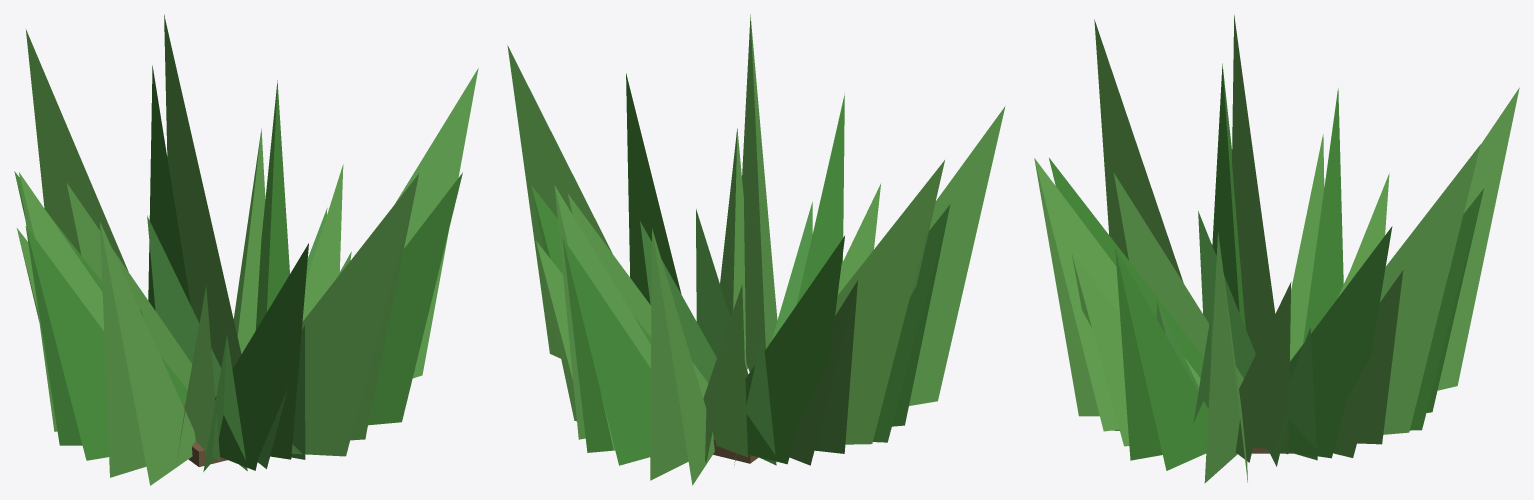
Rendered from grass.glb.
3 views of the same model, side by side, from view 1: azimuth 30°, elevation 25°; view 2: azimuth 150°, elevation 25°; view 3: azimuth 270°, elevation 25° (orthographic).
Visible parts, largest first — view 1: Grass clump; view 2: Grass clump; view 3: Grass clump.
Boxes of the visible parts, x1,y1,x2,y2 form: Grass clump: (14,14,478,485); Grass clump: (507,14,1005,485); Grass clump: (1034,15,1519,483).
Bounding box in the file's own units: 1.52 × 1.03 × 1.44.
